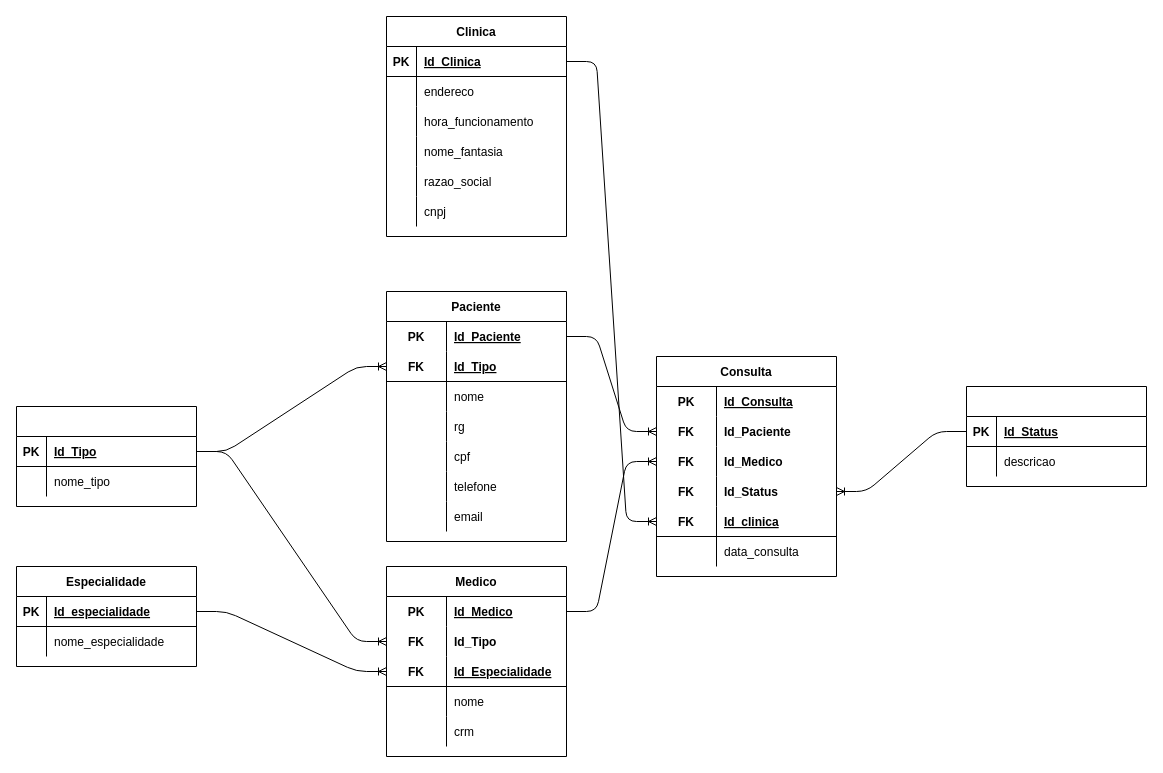
This 1163x773 diagram has some shape labels left out. Each missing label, with the box of its shape:
Status_Consulta: (966, 386, 1146, 486)
Tipo_Usuario: (16, 406, 196, 506)
